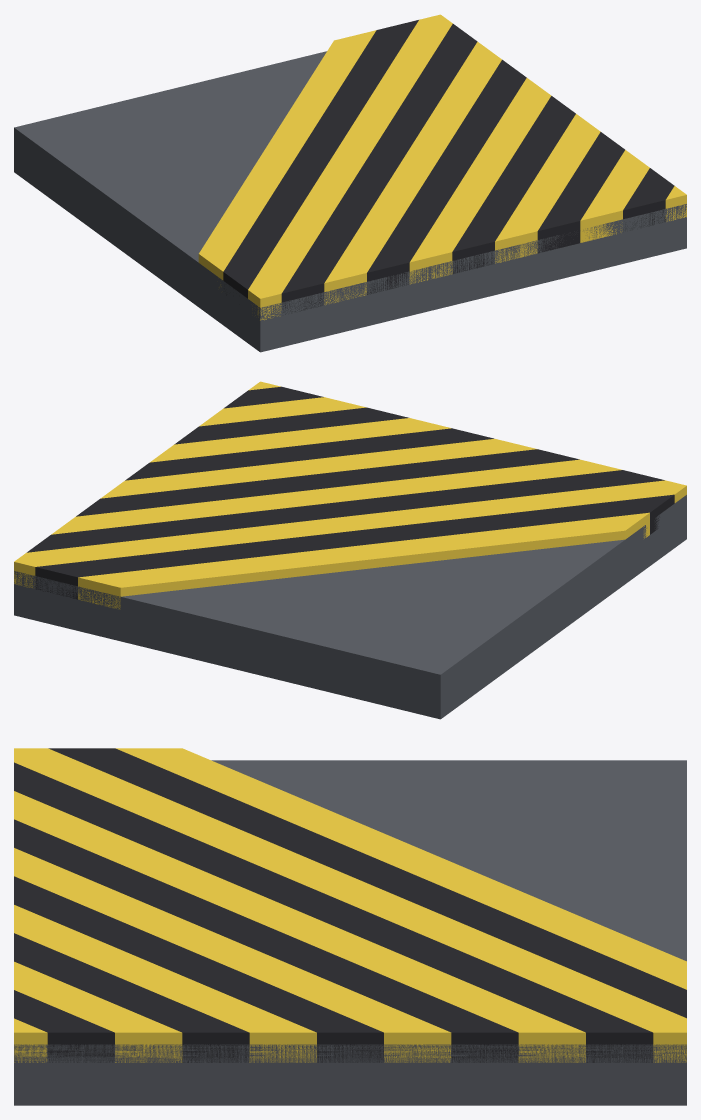
The model's file is SM_Floor_Hazard_Full.glb.
The picture shows the model from 3 angles, top to bottom: view 1: azimuth 30°, elevation 25°; view 2: azimuth 150°, elevation 25°; view 3: azimuth 270°, elevation 25°; orthographic projection. The views are drawn at different scales.
Visible parts, largest first — view 1: SM_Floor_Hazard_Full; view 2: SM_Floor_Hazard_Full; view 3: SM_Floor_Hazard_Full.
Boxes of the visible parts, x1,y1,x2,y2 form: SM_Floor_Hazard_Full: [14, 14, 686, 352]; SM_Floor_Hazard_Full: [14, 381, 686, 719]; SM_Floor_Hazard_Full: [14, 748, 686, 1105].
Bounding box in the file's own units: 2 × 0.24 × 2.
